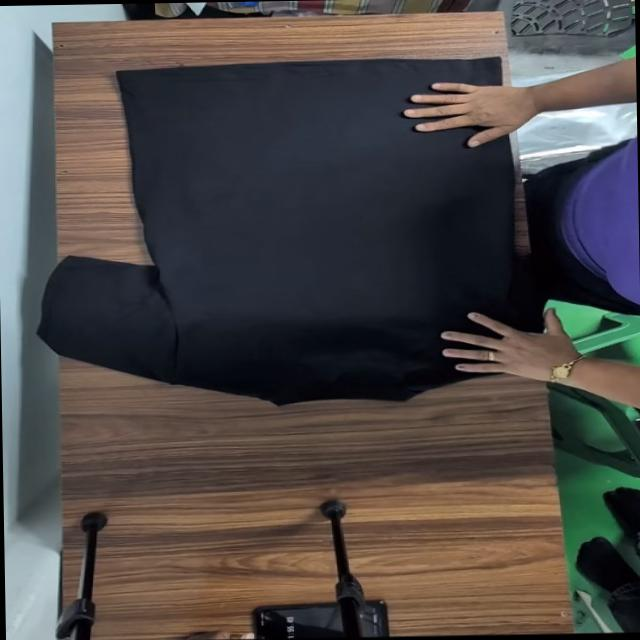new-garment: (40, 57, 536, 404)
